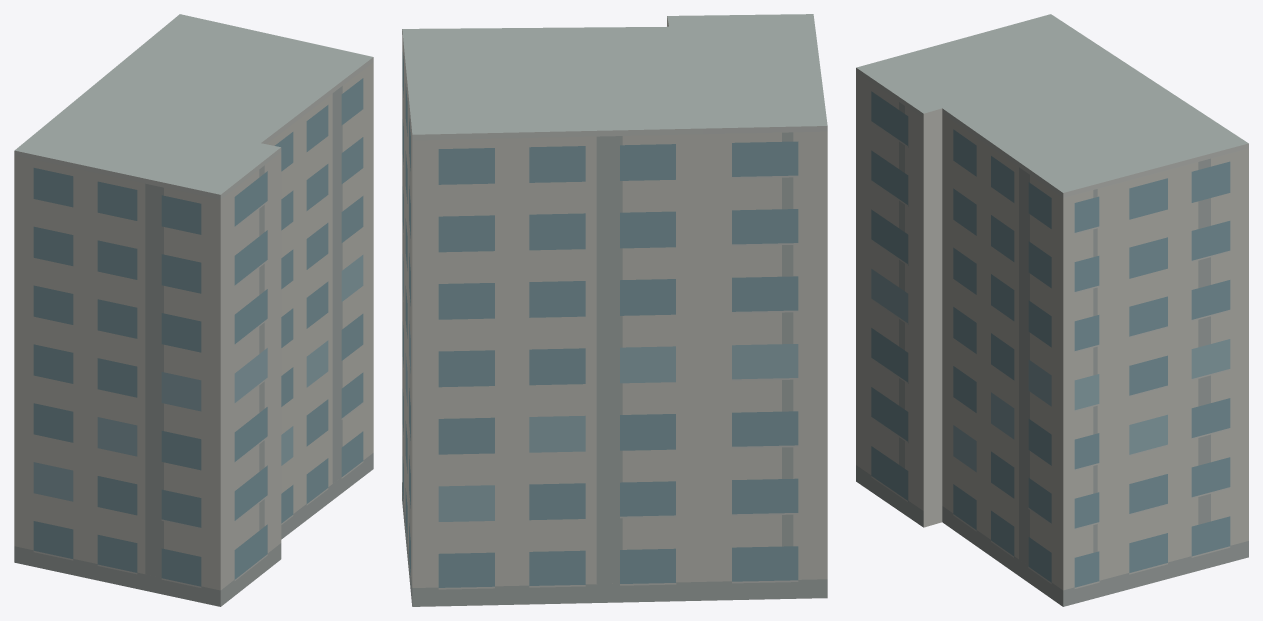
The model's file is survey-upis-32923337.glb.
3 renders of one model, left to right at view 1: azimuth 30°, elevation 25°; view 2: azimuth 150°, elevation 25°; view 3: azimuth 270°, elevation 25°, orthographic. The views are drawn at different scales.
Visible parts, largest first — view 1: survey-upis-32923337.tmp; view 2: survey-upis-32923337.tmp; view 3: survey-upis-32923337.tmp.
Part boxes in pixels (x1,y1,x2,y2): survey-upis-32923337.tmp: (14, 14, 373, 606); survey-upis-32923337.tmp: (402, 14, 827, 606); survey-upis-32923337.tmp: (856, 14, 1248, 606).
Size of the model in its own units: 18.56 by 20 by 17.21.
